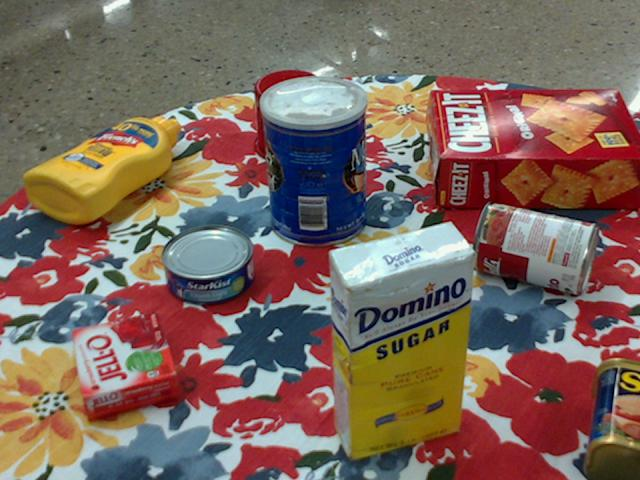cracker_box: (429, 89, 639, 209)
gelatin_box: (74, 314, 180, 424)
master_chef_can: (260, 75, 367, 247)
mug: (253, 70, 345, 164)
mustard_bottle: (22, 116, 179, 223)
potted_meat_can: (587, 355, 639, 479)
sugar_box: (327, 220, 475, 463)
tomato_soup_can: (474, 201, 600, 292)
tuna_fish_can: (160, 226, 253, 305)
